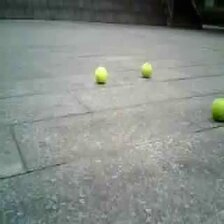tennis: (210, 96, 224, 122), (95, 66, 108, 83), (140, 63, 153, 76)
